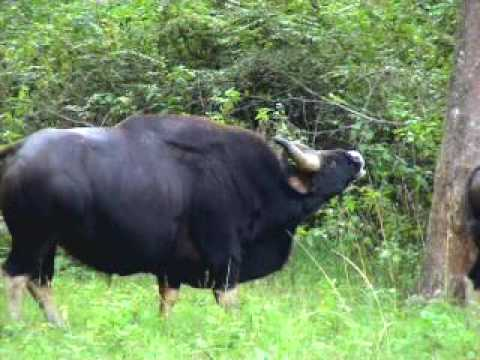bison: (1, 109, 375, 327)
